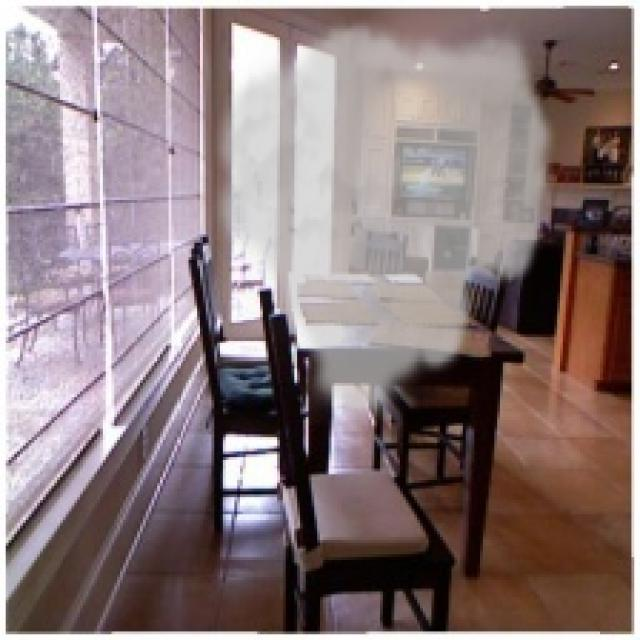smoke: (206, 17, 557, 432)
